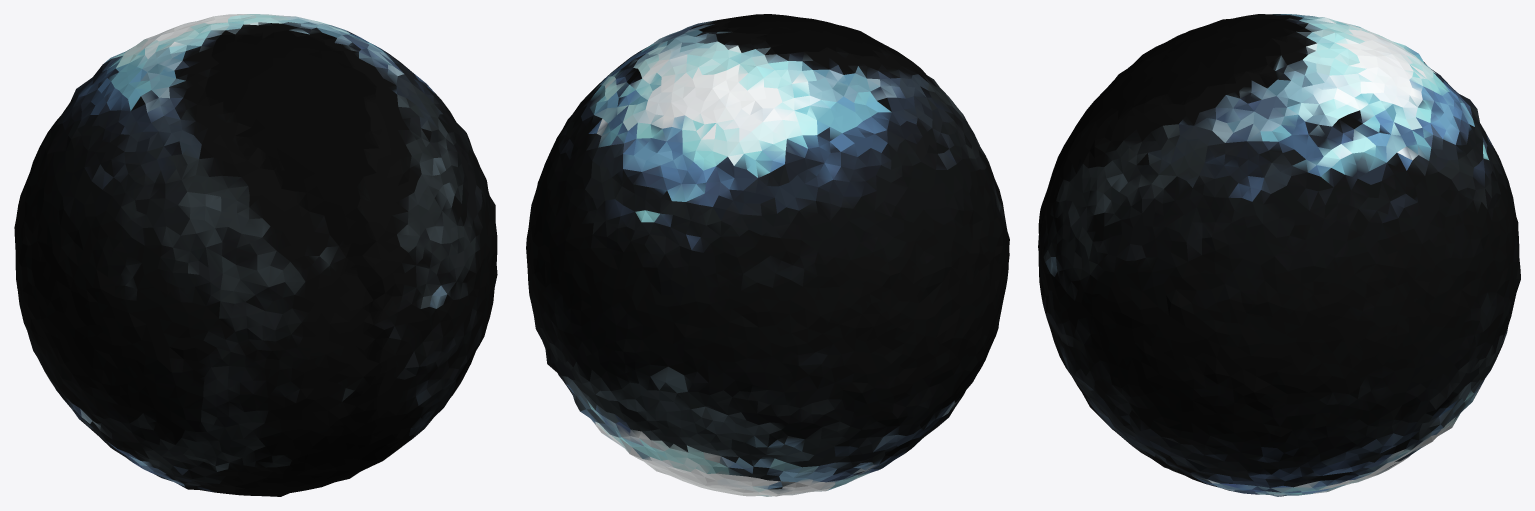
Rendered from SelectSkydome.fbx.
3 views of the same model, side by side, from view 1: azimuth 30°, elevation 25°; view 2: azimuth 150°, elevation 25°; view 3: azimuth 270°, elevation 25° (orthographic).
Parts seen in each view (by area): view 1: St07.Colorful_dome Ver.1.1_mesh; view 2: St07.Colorful_dome Ver.1.1_mesh; view 3: St07.Colorful_dome Ver.1.1_mesh.
Part boxes in pixels (x1,y1,x2,y2): St07.Colorful_dome Ver.1.1_mesh: (14, 14, 497, 496); St07.Colorful_dome Ver.1.1_mesh: (526, 14, 1009, 496); St07.Colorful_dome Ver.1.1_mesh: (1038, 14, 1520, 496).
Size of the model in its own units: 35412 by 35373 by 35434.
